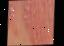plaque psoriasis: (21, 0, 56, 46), (6, 0, 25, 46)
